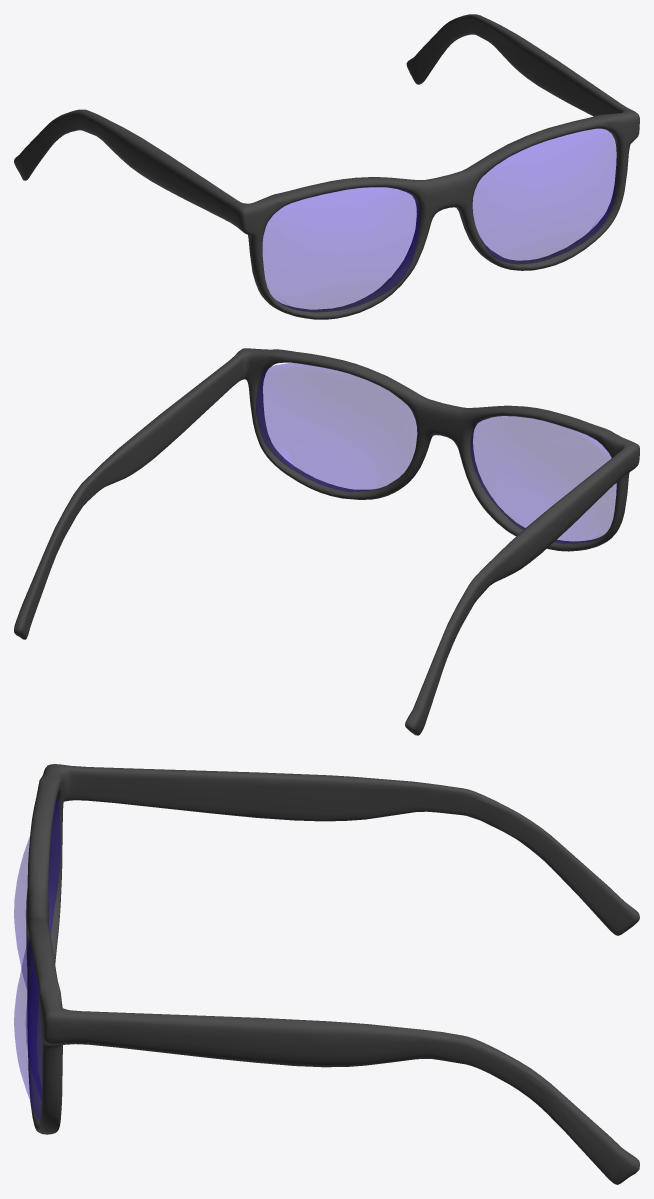
Rendered from glasses1.glb.
3 views of the same model, one above another, from view 1: azimuth 30°, elevation 25°; view 2: azimuth 150°, elevation 25°; view 3: azimuth 270°, elevation 25° (orthographic). The views are drawn at different scales.
Parts seen in each view (by area): view 1: lens, glasses; view 2: glasses, lens; view 3: glasses, lens.
Part boxes in pixels (x1=…): lens: x1=263, y1=129, x2=616, y2=312; glasses: x1=14, y1=14, x2=639, y2=319; glasses: x1=14, y1=348, x2=639, y2=735; lens: x1=256, y1=363, x2=616, y2=543; glasses: x1=26, y1=764, x2=639, y2=1184; lens: x1=14, y1=797, x2=60, y2=1121.
Bounding box in the file's own units: 2.12 × 0.699 × 2.19.
